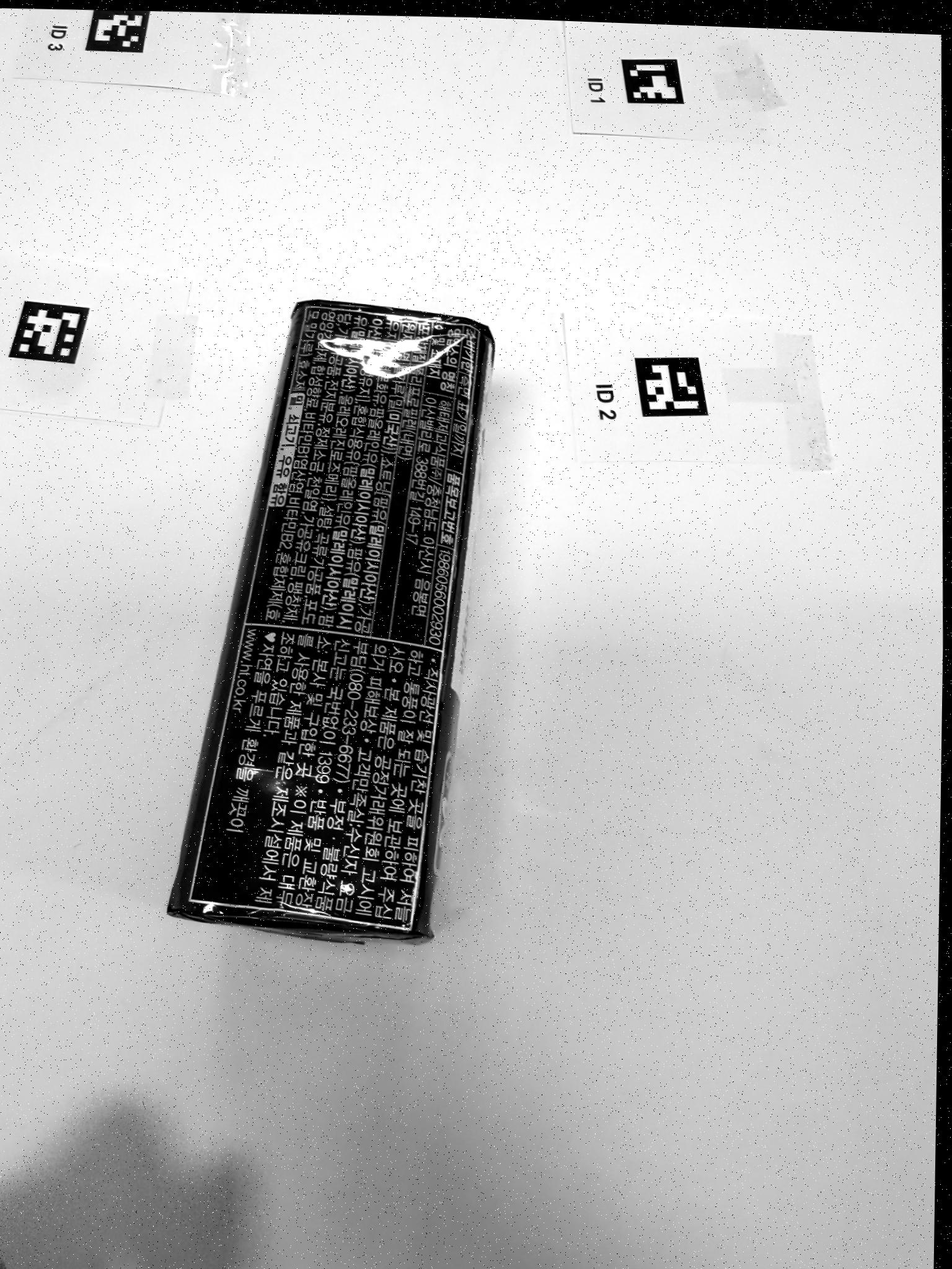cracker_ace: (169, 300, 494, 941)
